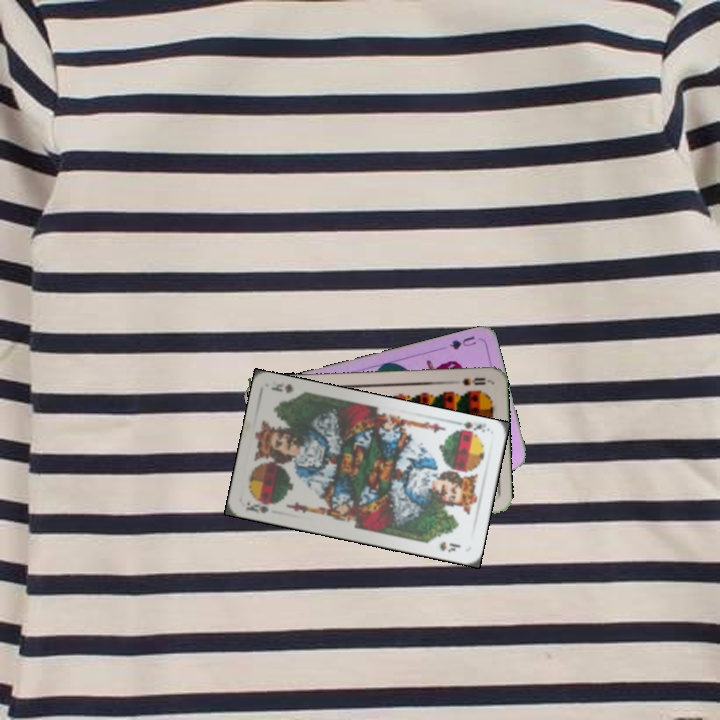GU: (445, 332, 479, 352)
S8: (458, 374, 491, 388)
SK: (450, 417, 492, 439), (242, 496, 278, 517)
